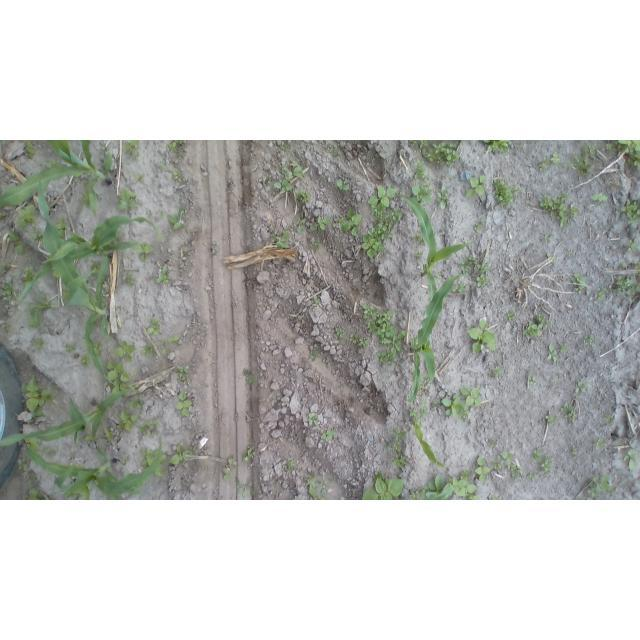Maize: (37, 178, 116, 387), (18, 217, 159, 303), (1, 141, 115, 216), (24, 445, 170, 500), (401, 194, 473, 301), (2, 394, 126, 450), (409, 274, 460, 403), (415, 399, 446, 470), (428, 483, 455, 500)
Weeds: (361, 303, 407, 365), (562, 140, 600, 178), (541, 191, 580, 227), (362, 472, 404, 501), (409, 140, 459, 164), (23, 376, 52, 413), (468, 319, 496, 354), (27, 298, 55, 327), (493, 178, 520, 206), (305, 471, 331, 500), (586, 475, 617, 498), (526, 316, 553, 341), (142, 448, 166, 476), (339, 208, 362, 237), (440, 394, 466, 419), (368, 185, 396, 208), (449, 477, 478, 499), (617, 141, 640, 168), (363, 235, 386, 259), (467, 173, 487, 199), (112, 340, 136, 360), (460, 387, 485, 406), (175, 392, 194, 417), (371, 218, 394, 238), (170, 444, 193, 464), (107, 361, 129, 381), (482, 141, 510, 156), (119, 190, 140, 210), (236, 479, 257, 499), (621, 199, 640, 221), (19, 205, 38, 227), (117, 412, 139, 431), (411, 181, 431, 201), (475, 456, 491, 481), (467, 252, 489, 270), (9, 231, 26, 254), (616, 277, 636, 296), (289, 157, 307, 178), (169, 207, 185, 230), (272, 229, 292, 247), (625, 440, 637, 469), (137, 241, 155, 260), (572, 274, 587, 295), (309, 217, 330, 232), (436, 186, 449, 210), (391, 454, 409, 471), (426, 477, 442, 496), (274, 179, 295, 193), (157, 264, 170, 284), (540, 456, 553, 476), (0, 280, 16, 296), (413, 164, 429, 180), (386, 439, 403, 454), (350, 335, 369, 348), (372, 204, 388, 219), (55, 216, 67, 236), (23, 141, 37, 158), (222, 459, 233, 480), (147, 320, 161, 336), (460, 258, 473, 275), (27, 437, 42, 451), (27, 486, 42, 500), (548, 343, 559, 362), (510, 463, 521, 482), (296, 190, 311, 203), (501, 450, 513, 466), (419, 398, 430, 415), (308, 413, 321, 427), (126, 273, 138, 288), (140, 421, 150, 439), (130, 398, 145, 410), (592, 192, 608, 203), (392, 428, 408, 439), (296, 211, 304, 233), (320, 429, 336, 440), (476, 274, 489, 287), (22, 266, 35, 279), (102, 427, 114, 441), (338, 180, 353, 191), (111, 381, 127, 391), (596, 287, 609, 299), (142, 346, 154, 359), (391, 208, 403, 221), (311, 238, 322, 252), (545, 411, 555, 426), (628, 239, 640, 251), (124, 140, 140, 149), (36, 339, 48, 351), (311, 348, 322, 361), (156, 231, 169, 242), (245, 371, 256, 384), (475, 218, 485, 232), (245, 445, 255, 459), (408, 490, 422, 500), (503, 311, 515, 322), (177, 367, 189, 378), (539, 158, 549, 171), (564, 413, 577, 423), (93, 342, 103, 355), (336, 327, 345, 341), (534, 447, 543, 461), (169, 140, 183, 149), (17, 457, 28, 468), (460, 469, 471, 480), (453, 283, 465, 293), (560, 403, 573, 412), (488, 368, 501, 377), (552, 150, 561, 163), (66, 343, 79, 352), (43, 161, 59, 168), (490, 460, 504, 468), (575, 380, 584, 392), (168, 335, 181, 343), (287, 460, 297, 470), (584, 337, 595, 346), (281, 142, 290, 153), (161, 339, 167, 355), (82, 355, 91, 365), (410, 408, 419, 418), (131, 152, 142, 160), (560, 344, 569, 353), (279, 165, 288, 174), (158, 210, 166, 220), (541, 235, 551, 243), (85, 436, 96, 443), (604, 413, 612, 422), (34, 232, 42, 241), (597, 439, 604, 449), (122, 455, 129, 465), (528, 376, 536, 384), (416, 252, 424, 260), (606, 143, 613, 152), (212, 248, 220, 255), (529, 472, 536, 480), (490, 440, 499, 446), (547, 253, 554, 260), (571, 448, 577, 456), (314, 295, 320, 303), (421, 487, 429, 493), (134, 174, 142, 180), (173, 173, 179, 180), (6, 322, 11, 330), (635, 264, 640, 270), (413, 235, 419, 240), (621, 264, 626, 269), (0, 211, 4, 217)
